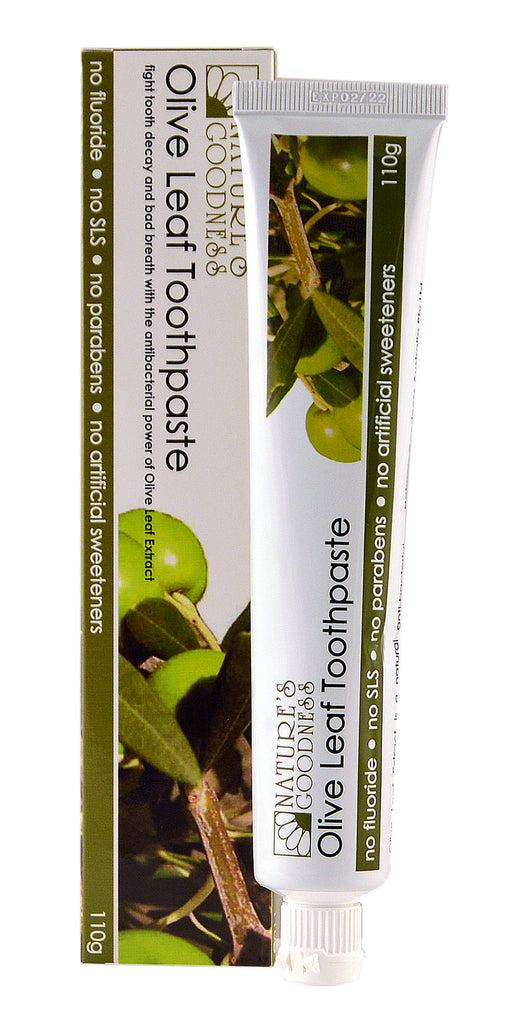toothpaste: (209, 69, 501, 1018)
